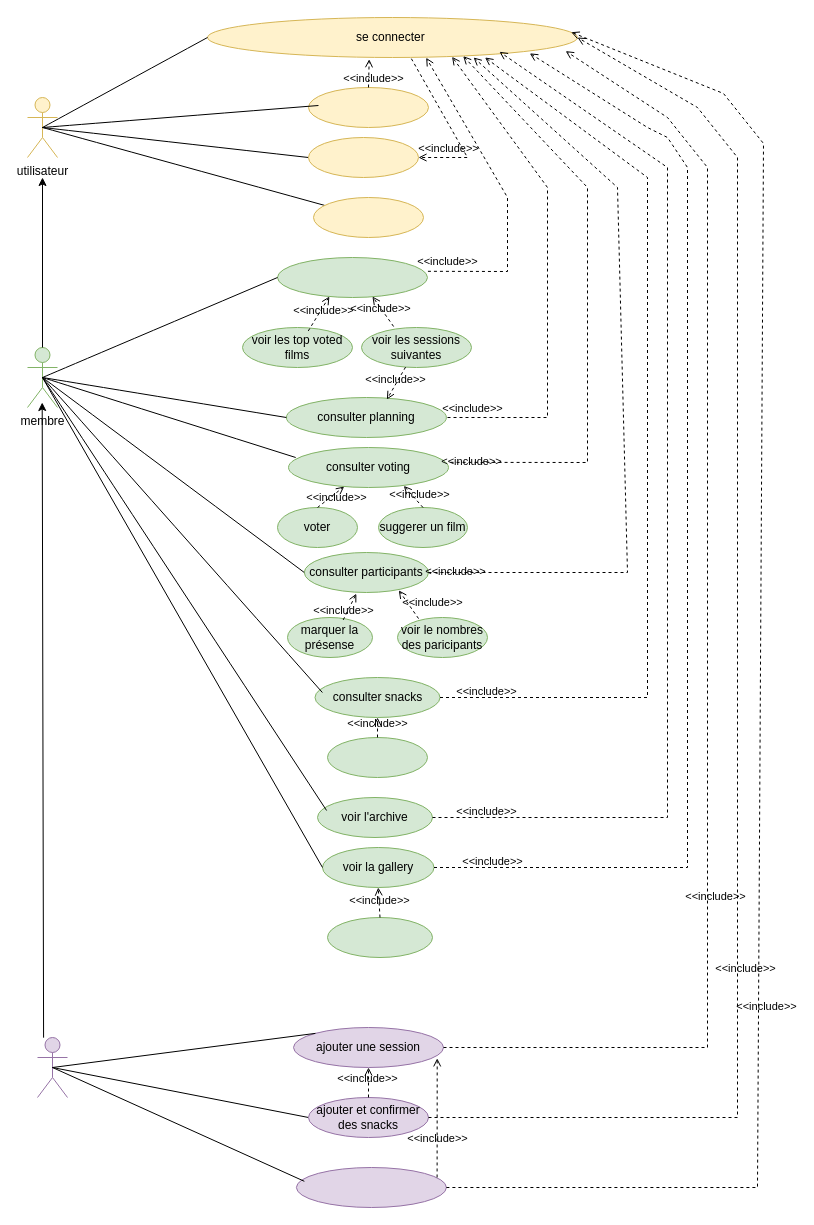
Some shapes in this 814 by 1225 pixel diagram are drawn without their labels. Each missing label, with the centre of its shape:
"avoir une idée sur le site" goes at point (368, 217).
"consulter home" goes at point (352, 277).
"inviter des membres via un code d'invitation" goes at point (370, 1187).
"organisateur" goes at point (52, 1067).
"s'inscrire" goes at point (363, 157).
"se déconnecter" goes at point (368, 107).
"télécharger des images" goes at point (379, 937).
"voir et volonter les snacks" goes at point (377, 757).
